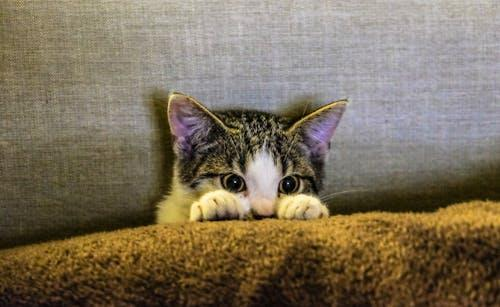kedo: (154, 91, 347, 221)
